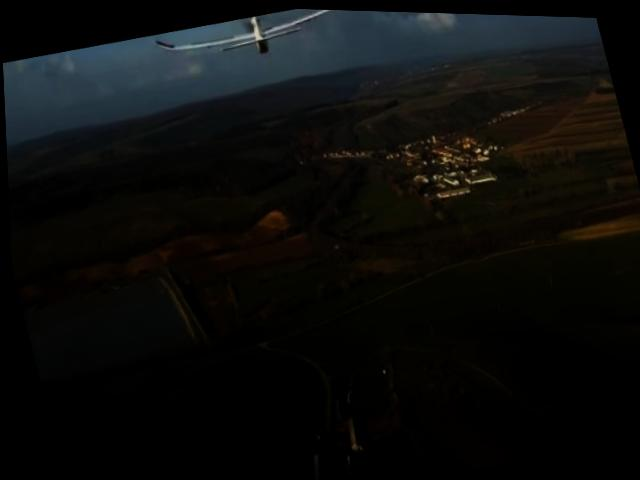iha: (150, 3, 369, 77)
